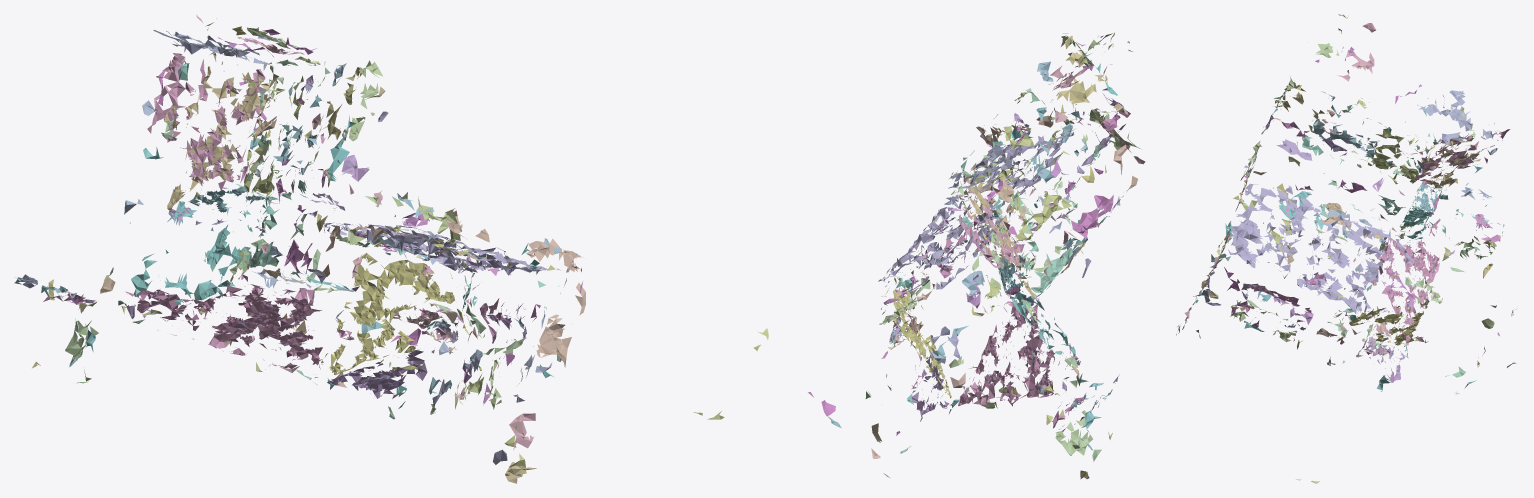
Rendered from scan24_hybrid_asset.glb.
The picture shows the model from 3 angles, left to right: view 1: azimuth 30°, elevation 25°; view 2: azimuth 150°, elevation 25°; view 3: azimuth 270°, elevation 25°; orthographic projection. The views are drawn at different scales.
Parts seen in each view (by area): view 1: certified_patches; view 2: certified_patches; view 3: certified_patches.
Boxes of the visible parts, bbox=[...] form: certified_patches: bbox=[14, 14, 724, 483]; certified_patches: bbox=[753, 32, 1145, 479]; certified_patches: bbox=[1176, 14, 1517, 483].
Size of what is drawn, in the model's own units: 1.4 by 1.19 by 1.15.
